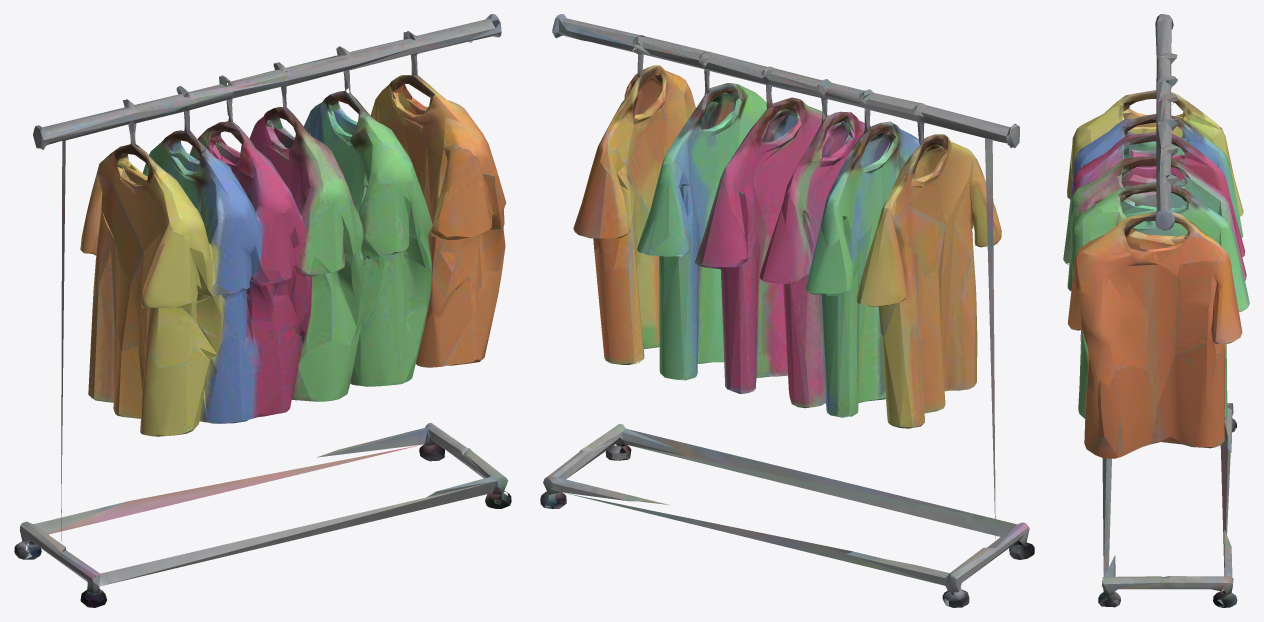
The model's file is clothes-rack.glb.
3 views of the same model, side by side, from view 1: azimuth 30°, elevation 25°; view 2: azimuth 150°, elevation 25°; view 3: azimuth 270°, elevation 25° (orthographic). The views are drawn at different scales.
Parts seen in each view (by area): view 1: Mesh_0.608; view 2: Mesh_0.608; view 3: Mesh_0.608.
Part boxes in pixels (x1,y1,x2,y2): Mesh_0.608: [14, 14, 511, 607]; Mesh_0.608: [540, 14, 1034, 607]; Mesh_0.608: [1063, 14, 1249, 607].
Size of the model in its own units: 1.67 by 1.6 by 0.6642.
Materials: 1 (1 with a texture image).
